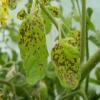Tomato leaf bacterial spot: (9, 9, 50, 89), (49, 37, 81, 93)
